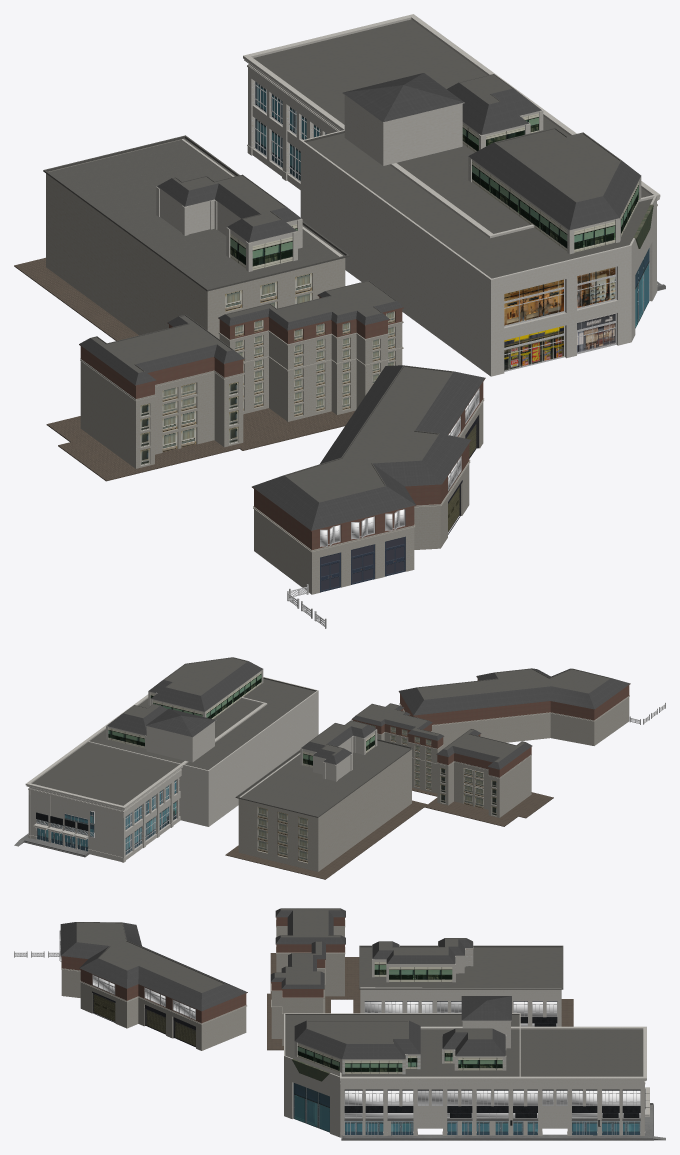
Rendered from YQ_Lou.fbx.
The picture shows the model from 3 angles, top to bottom: view 1: azimuth 30°, elevation 25°; view 2: azimuth 150°, elevation 25°; view 3: azimuth 270°, elevation 25°; orthographic projection. The views are drawn at different scales.
Parts seen in each view (by area): view 1: YQ_Lou, YQ_Lou_dimian, YQ_Lou_qiang_up; view 2: YQ_Lou, YQ_Lou_qiang_up, YQ_Lou_dimian, YQ_Lou_taijie; view 3: YQ_Lou, YQ_Lou_taijie, YQ_Lou_qiang_up, YQ_Lou_dimian.
Part boxes in pixels (x1,y1,x2,y2): YQ_Lou: (43,14,660,594); YQ_Lou_dimian: (14,257,354,481); YQ_Lou_qiang_up: (79,295,485,549); YQ_Lou: (25,657,630,871); YQ_Lou_qiang_up: (351,676,630,777); YQ_Lou_dimian: (225,786,553,879); YQ_Lou_taijie: (14,833,89,857); YQ_Lou: (59,908,649,1137); YQ_Lou_taijie: (292,1058,665,1140); YQ_Lou_qiang_up: (61,917,345,1023); YQ_Lou_dimian: (267,953,573,1050).
Bounding box in the file's own units: 8570 × 2051 × 12615.
